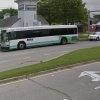Bus: (2, 22, 80, 49)
